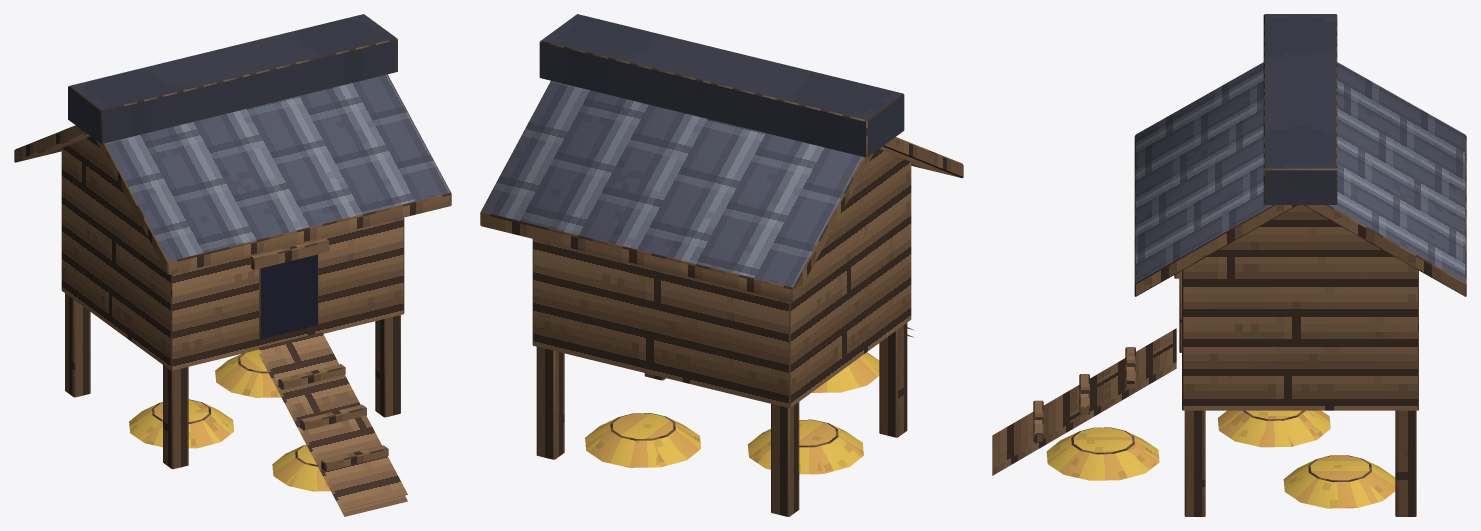
The model's file is cn_chicken_coop_1.glb.
3 views of the same model, side by side, from view 1: azimuth 30°, elevation 25°; view 2: azimuth 150°, elevation 25°; view 3: azimuth 270°, elevation 25° (orthographic). The views are drawn at different scales.
Visible parts, largest first — view 1: cn_chicken_coop_2; view 2: cn_chicken_coop_2; view 3: cn_chicken_coop_2.
Boxes of the visible parts, <box> form: cn_chicken_coop_2: <box>14,14,451,516</box>; cn_chicken_coop_2: <box>480,14,963,516</box>; cn_chicken_coop_2: <box>992,14,1466,516</box>.
Bounding box in the file's own units: 1.4 × 1.54 × 1.8.
Materials: 8 (8 with a texture image).
